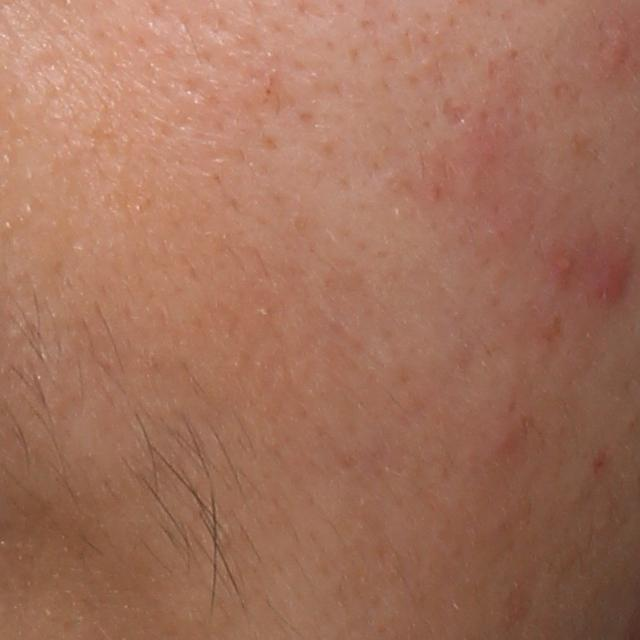atrophic_scar: (440, 94, 476, 130)
papule: (587, 245, 633, 301)
